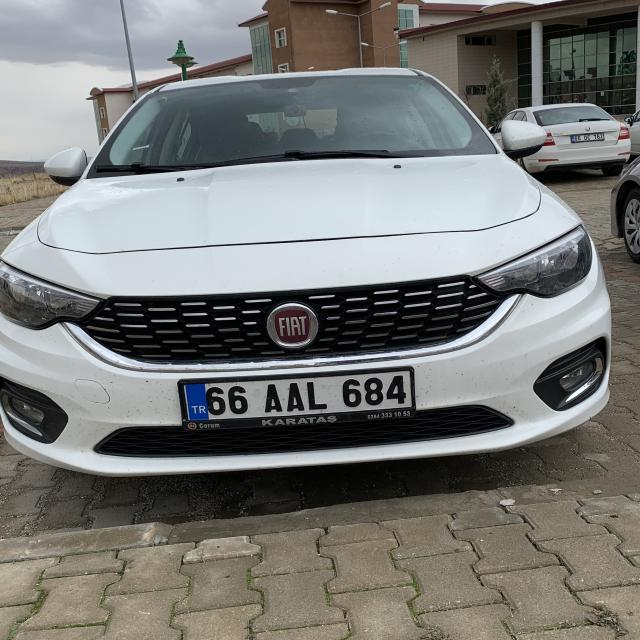license_plate: (182, 369, 412, 420)
